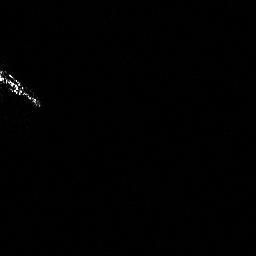ship: (1, 68, 41, 108)
